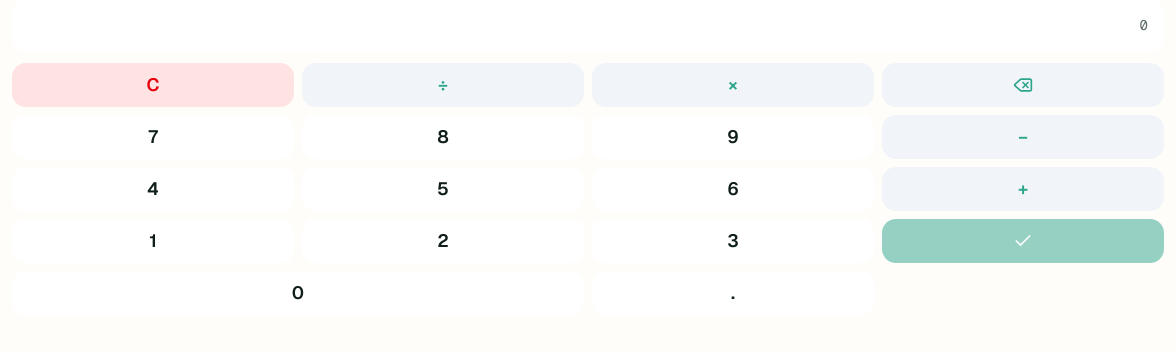
Test: Calculator Component › number input › should display entered numbers
This screenshot has width=1176, height=353.
Click the button "1".
click(153, 241)  # box [12,219,294,263]
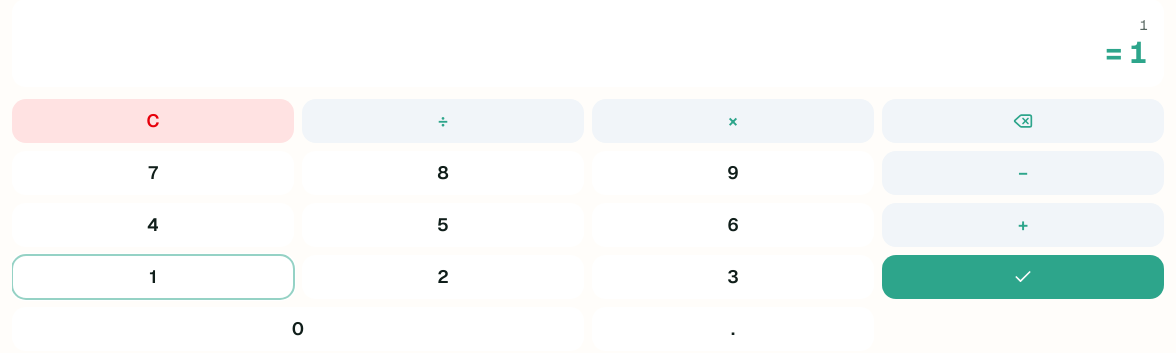
Click the button "2".
click(443, 277)  # box [302,255,584,299]
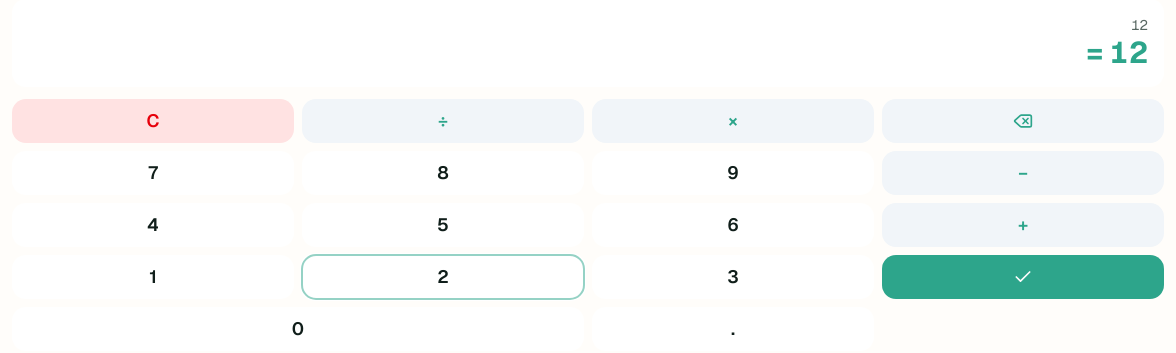
Click the button "3".
click(733, 277)  # box [592,255,874,299]
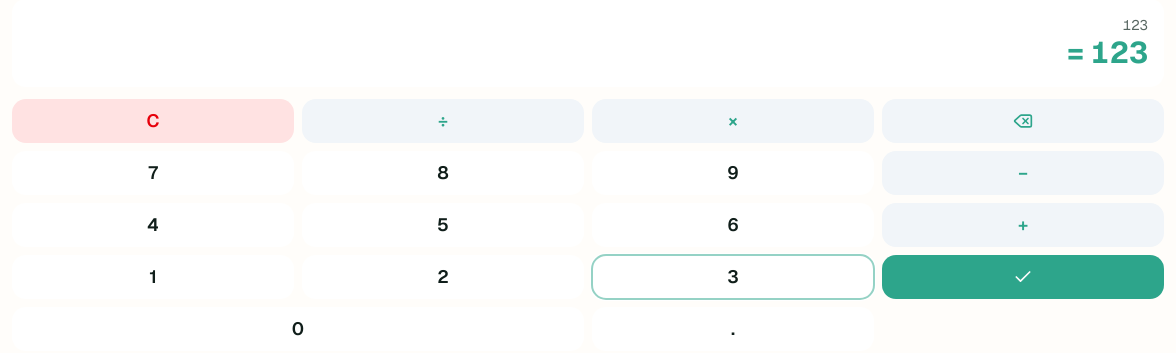
Check: the text "123" is shown, box [1123,16,1148,34]
Check: the text "= 123" is shown, box [1067,33,1148,72]
